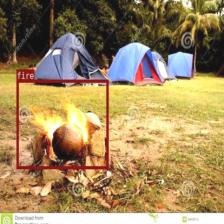fire: (16, 79, 108, 169)
